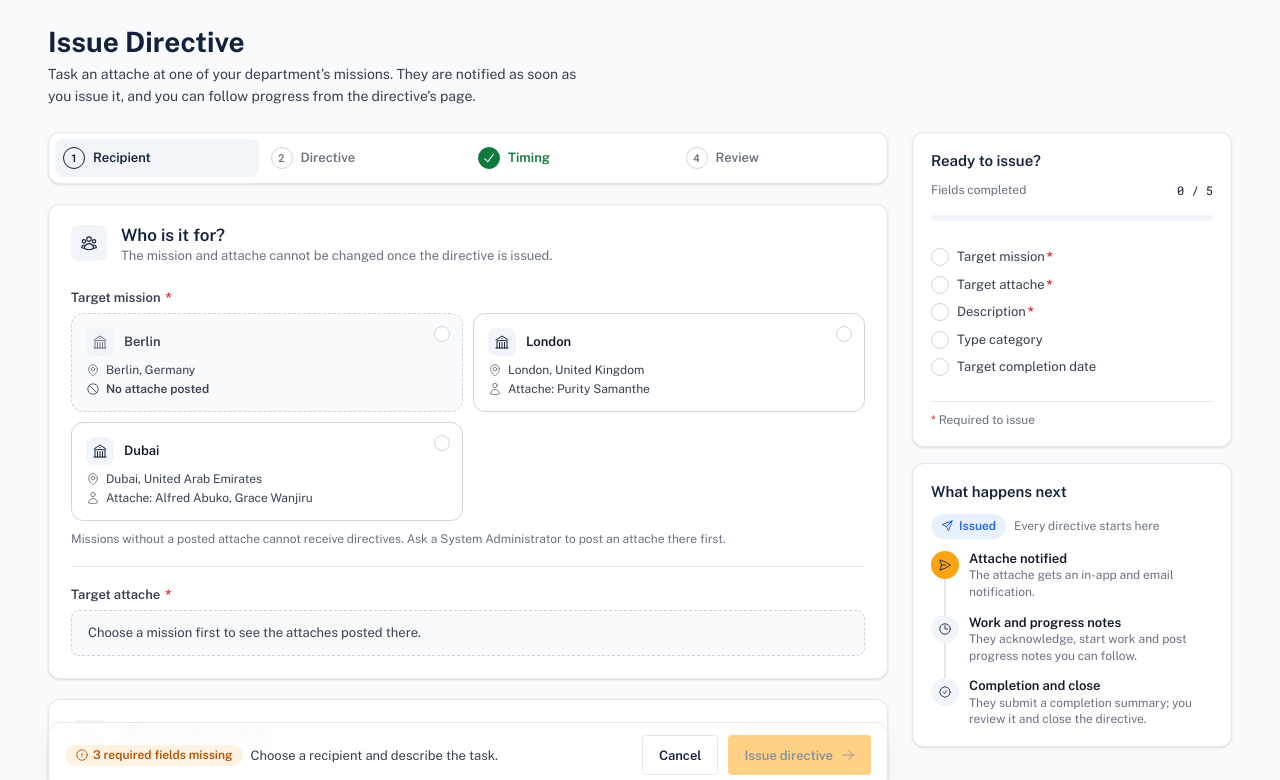
it: IssueDirectivePage › TC-FR-DIR-002-D: auto-selects the only attache at a mission and makes the issuer choose between several
Click the radio button labelled "London".
click(549, 342)  # box x1=473 y1=313 x2=865 y2=412
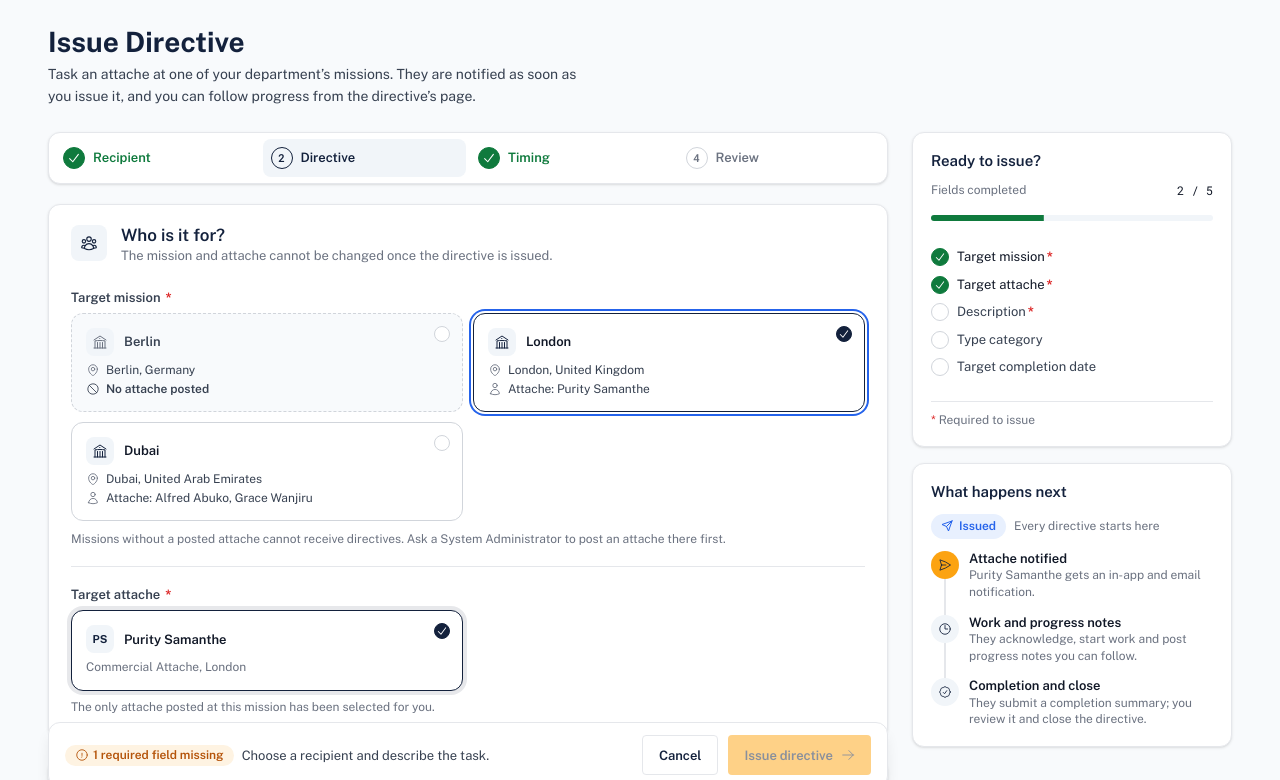
Check: the radio button labelled "Purity Samanthe" is checked, box x1=71 y1=610 x2=463 y2=691
Check: the text "The only attache posted at this mission has been selected for you." is shown, box x1=71 y1=700 x2=435 y2=714
Click the radio button labelled "Dubai".
click(142, 451)  # box x1=71 y1=422 x2=463 y2=521
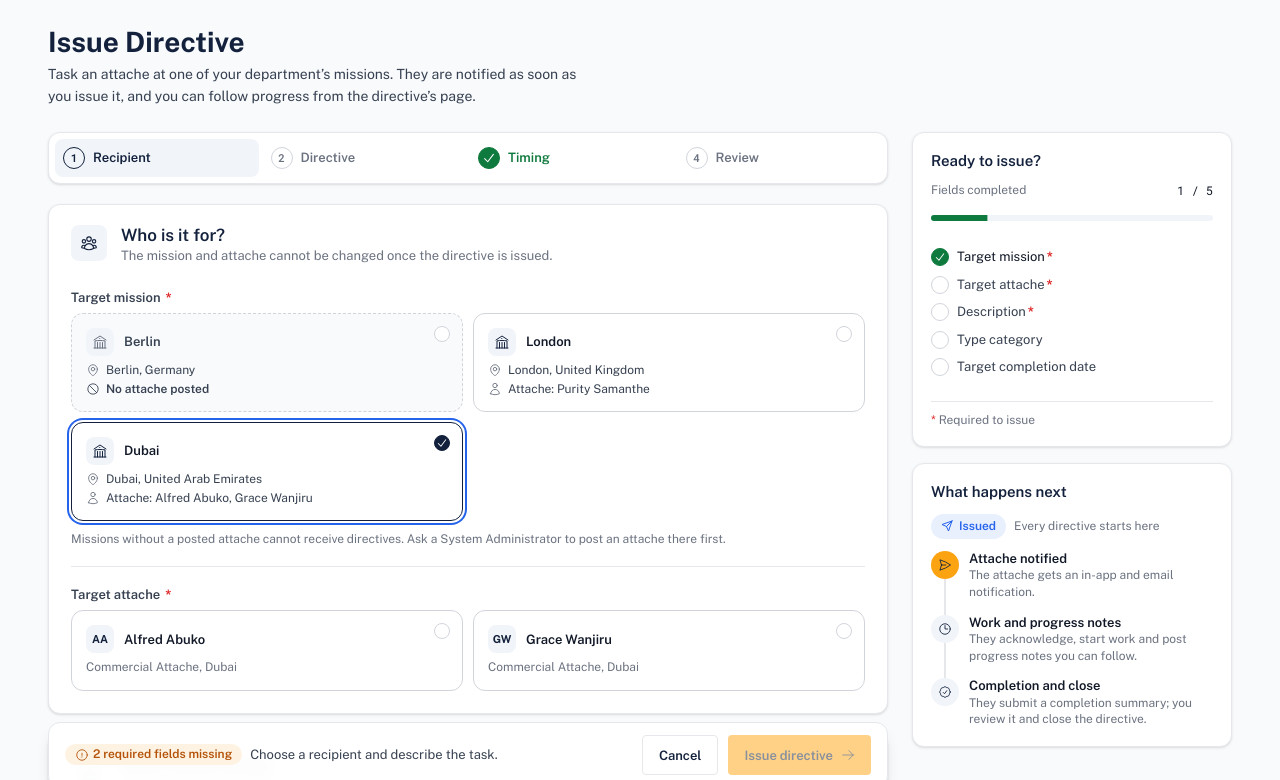
Check: the radio button labelled "Alfred Abuko" is not checked, box x1=71 y1=610 x2=463 y2=691
Check: the radio button labelled "Grace Wanjiru" is not checked
Check: the text "2 required fields missing" is shown, box x1=65 y1=745 x2=242 y2=765
Click the radio button labelled "Grace Wanjiru".
click(569, 639)  # box x1=473 y1=610 x2=865 y2=691
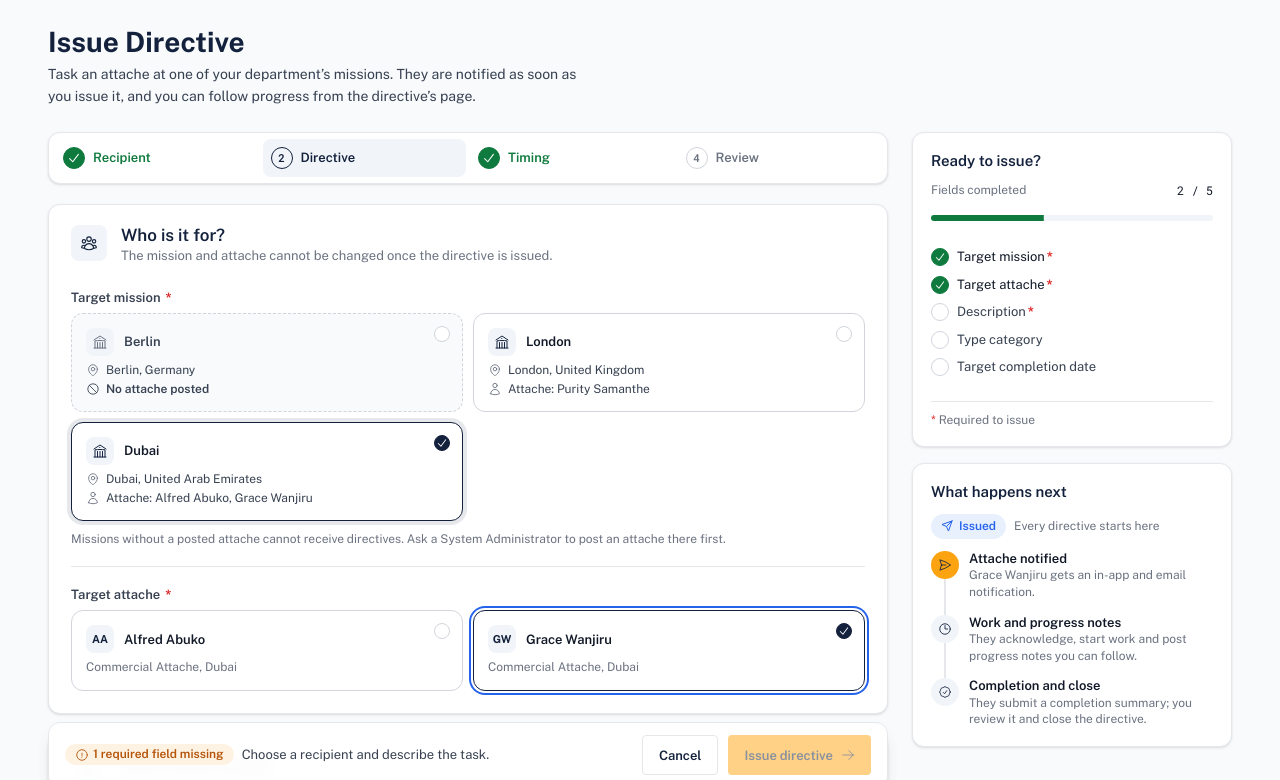
Check: the radio button labelled "Grace Wanjiru" is checked, box x1=473 y1=610 x2=865 y2=691
Check: the text "1 required field missing" is shown, box x1=65 y1=745 x2=234 y2=765
